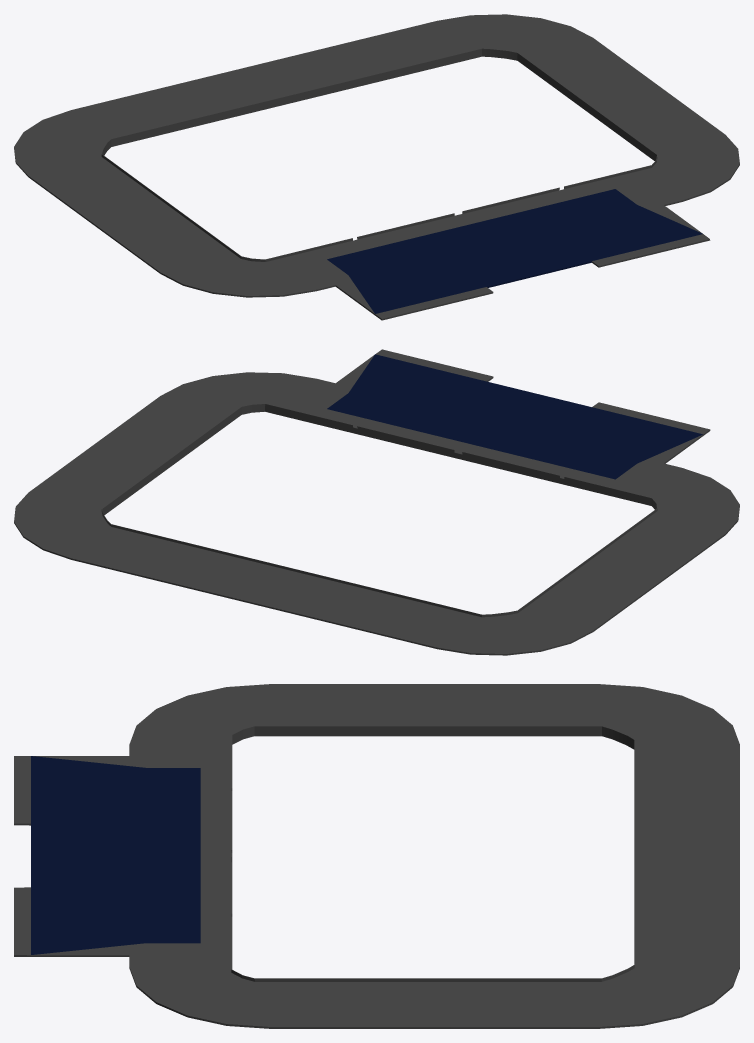
Rendered from Al_Nasar_Football_Stadium_CrowdAreaBase.FBX.
The picture shows the model from 3 angles, top to bottom: view 1: azimuth 30°, elevation 25°; view 2: azimuth 150°, elevation 25°; view 3: azimuth 270°, elevation 25°; orthographic projection. The views are drawn at different scales.
Parts seen in each view (by area): view 1: Al_Nasar_Football_Stadium_CrowdAreaBase; view 2: Al_Nasar_Football_Stadium_CrowdAreaBase; view 3: Al_Nasar_Football_Stadium_CrowdAreaBase.
Part boxes in pixels (<box>): Al_Nasar_Football_Stadium_CrowdAreaBase: <box>14,14,739,320</box>; Al_Nasar_Football_Stadium_CrowdAreaBase: <box>14,349,739,655</box>; Al_Nasar_Football_Stadium_CrowdAreaBase: <box>14,684,739,1028</box>.
Size of the model in its own units: 24346 by 21780 by 331.
